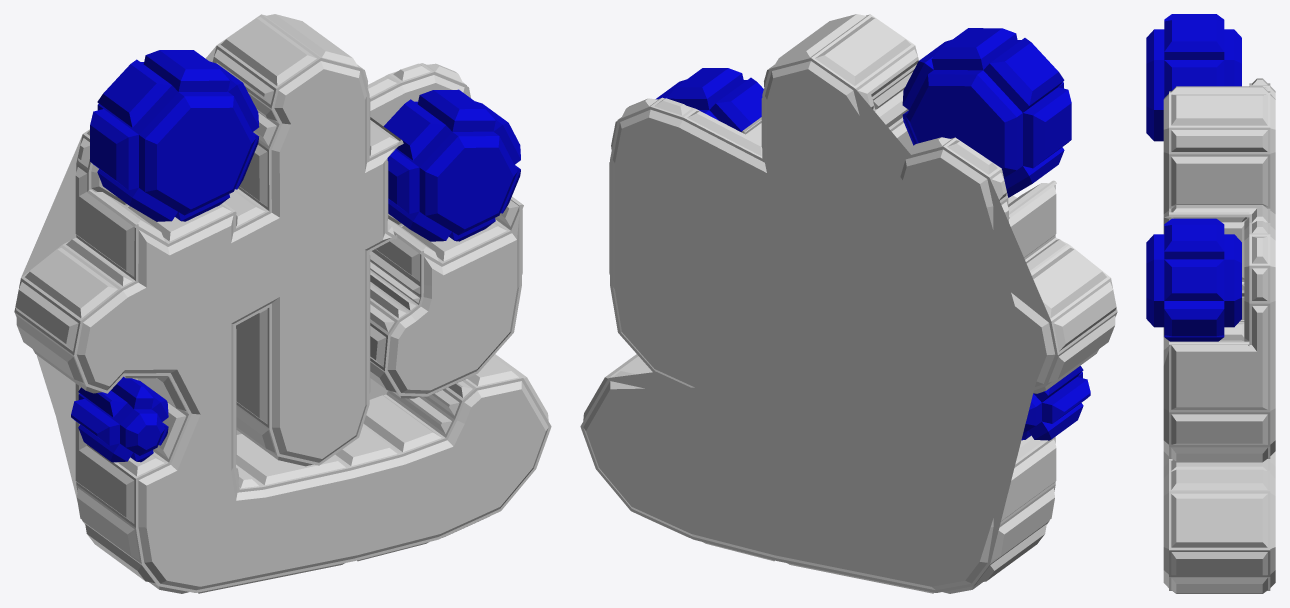
The model's file is Ch_China_也_01.fbx.
3 renders of one model, left to right at view 1: azimuth 30°, elevation 25°; view 2: azimuth 150°, elevation 25°; view 3: azimuth 270°, elevation 25°, orthographic. The views are drawn at different scales.
Parts seen in each view (by area): view 1: sphere1; view 2: sphere1; view 3: sphere1.
Boxes of the visible parts, x1,y1,x2,y2 form: sphere1: [14, 14, 551, 593]; sphere1: [580, 14, 1117, 593]; sphere1: [1146, 14, 1275, 593].
Size of the model in its own units: 0.9345 by 0.9925 by 0.2541.
